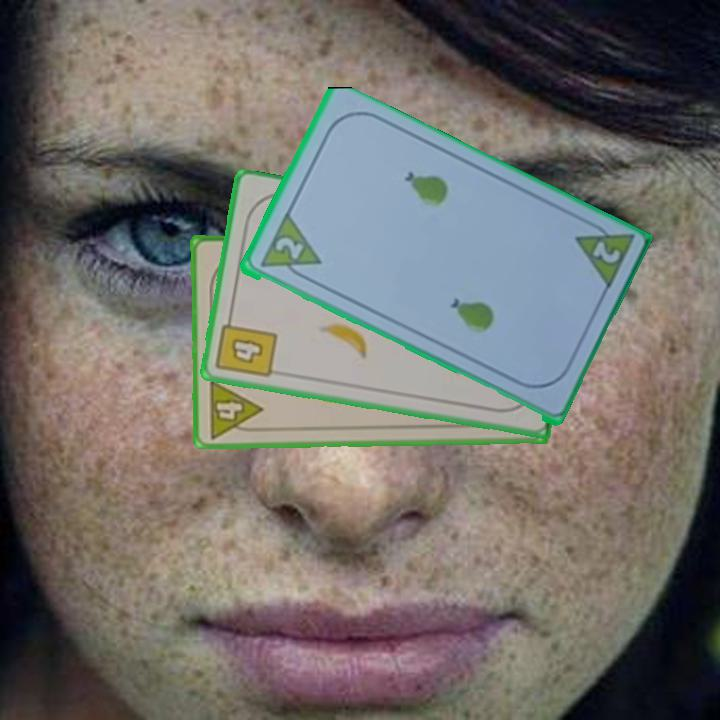2p: (570, 215, 636, 295), (271, 233, 306, 263)
4b: (212, 310, 280, 381)
4p: (205, 376, 265, 441)
